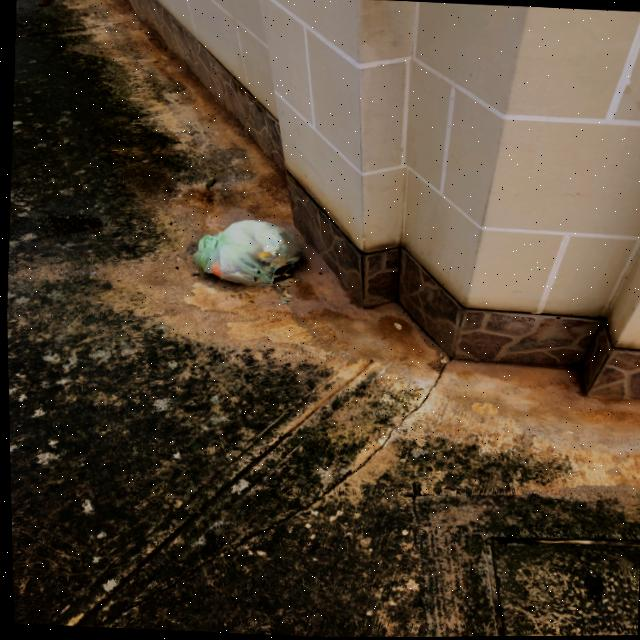Organic Waste -White Bag-: (190, 216, 304, 297)
